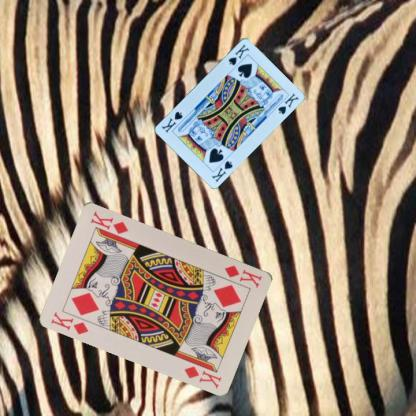Kd: (49, 308, 90, 336), (222, 262, 263, 289)
Ks: (209, 158, 234, 183), (226, 42, 251, 66)
